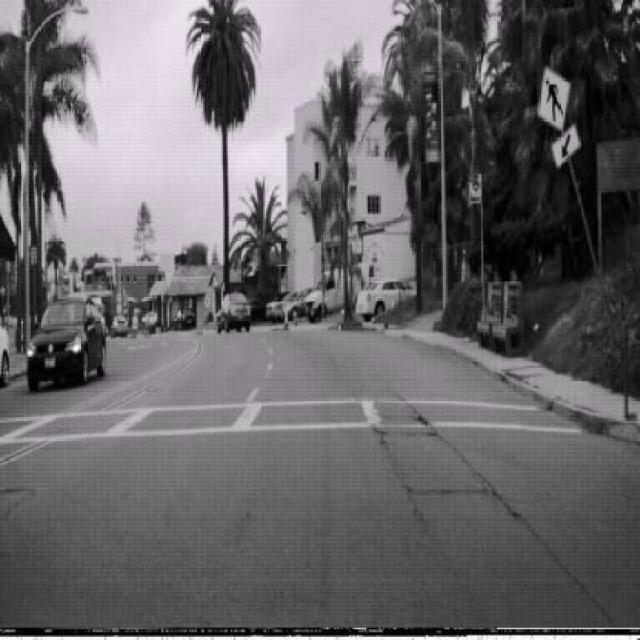pedestrianCrossing: (537, 65, 572, 133)
